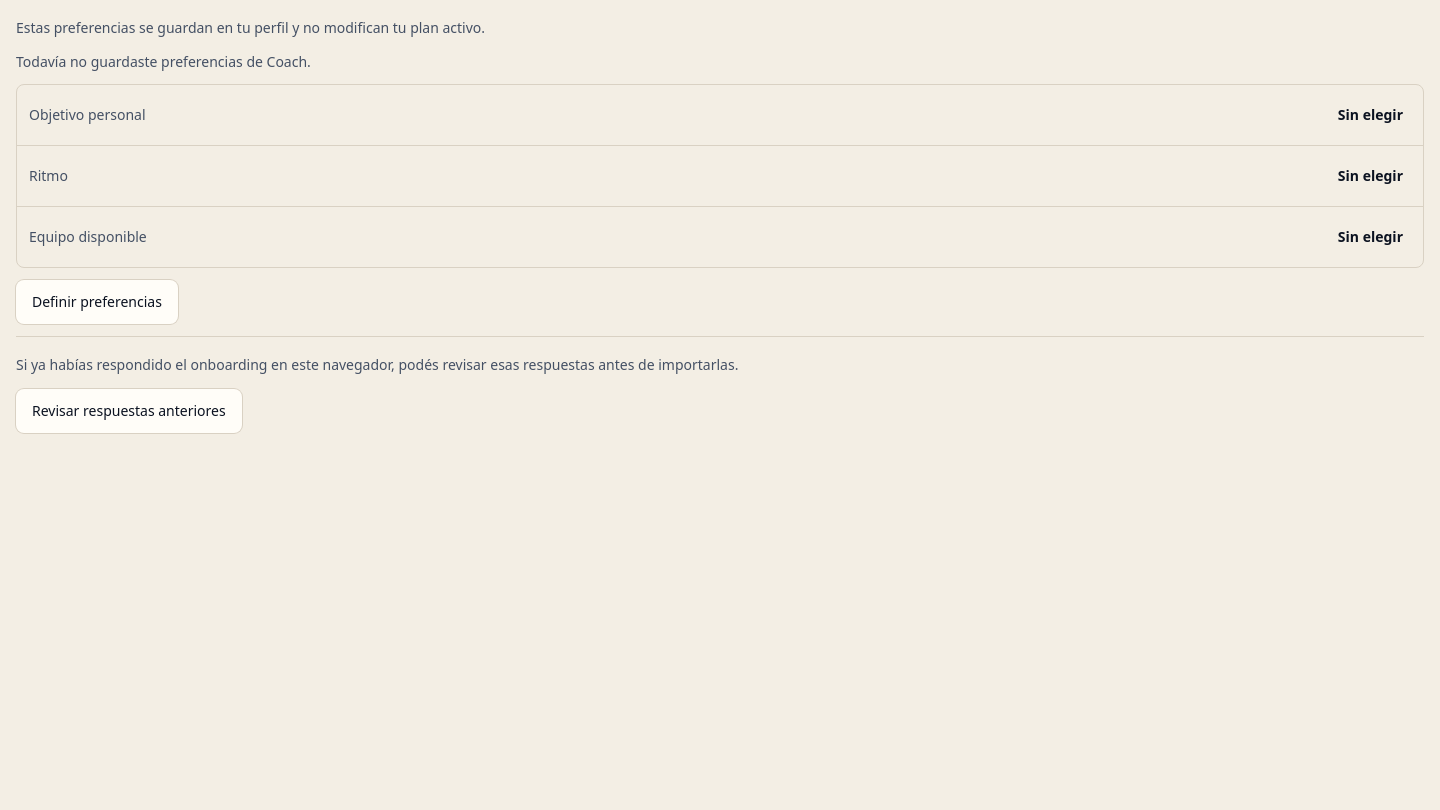
ProfileCoachContext › only previews valid legacy answers after the user asks to review them
The width and height of the screenshot is (1440, 810).
Expected: the text "Todavía no guardaste preferencias de Coach." is shown, [16,52,311,71]
Expected: the text "Respuestas anteriores de este navegador" is not shown
Click the button "Revisar respuestas anteriores": (129, 411) [16,389,242,433]
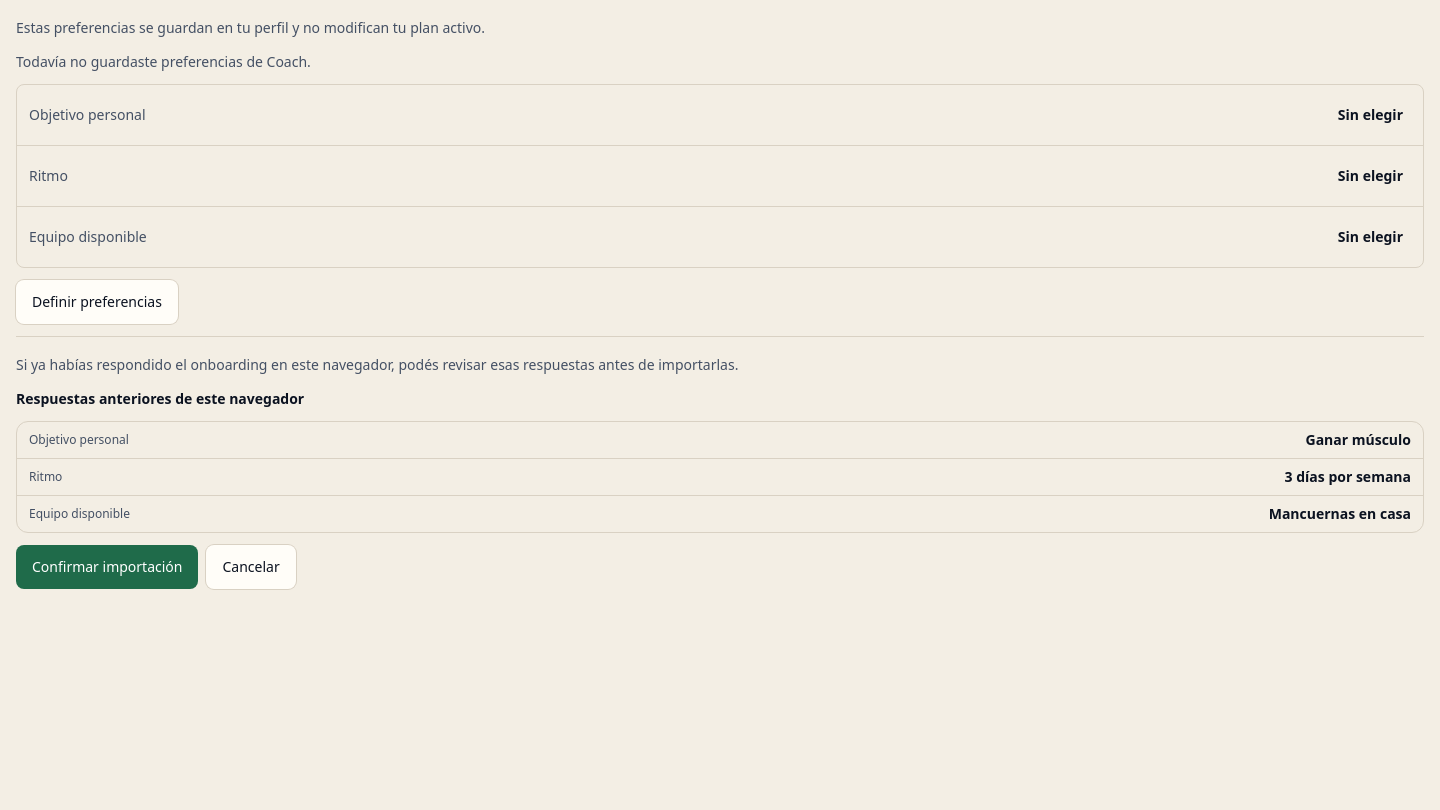
Expected: the heading "Respuestas anteriores de este navegador" is shown, [16,389,304,408]
Expected: the text "Ganar músculo" is shown, [1306,430,1411,450]
Expected: the text "3 días por semana" is shown, [1284,467,1411,487]
